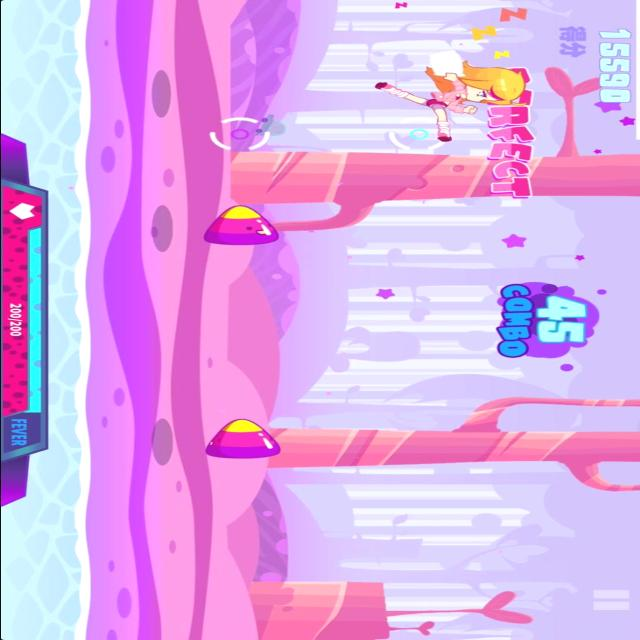jian: (197, 203, 283, 249), (198, 418, 286, 462)
